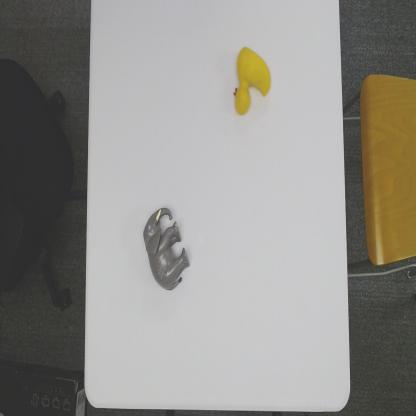Duck: (232, 42, 271, 118)
Elephant: (142, 204, 191, 294)
